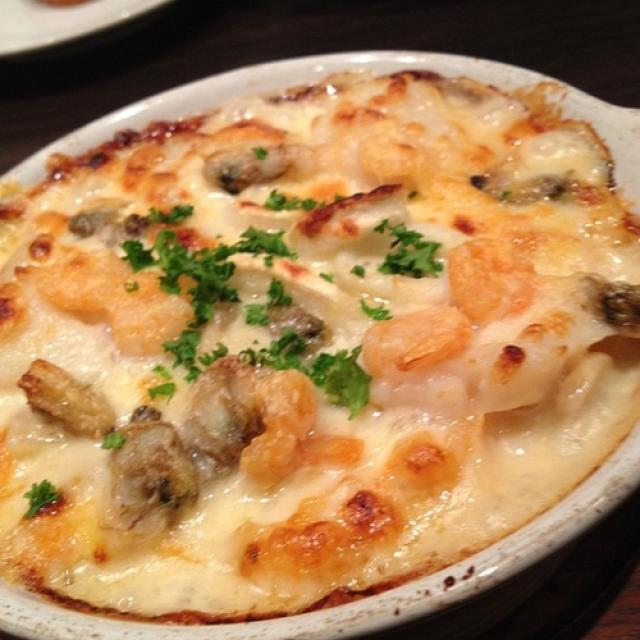米饭主食: (27, 92, 603, 584)
